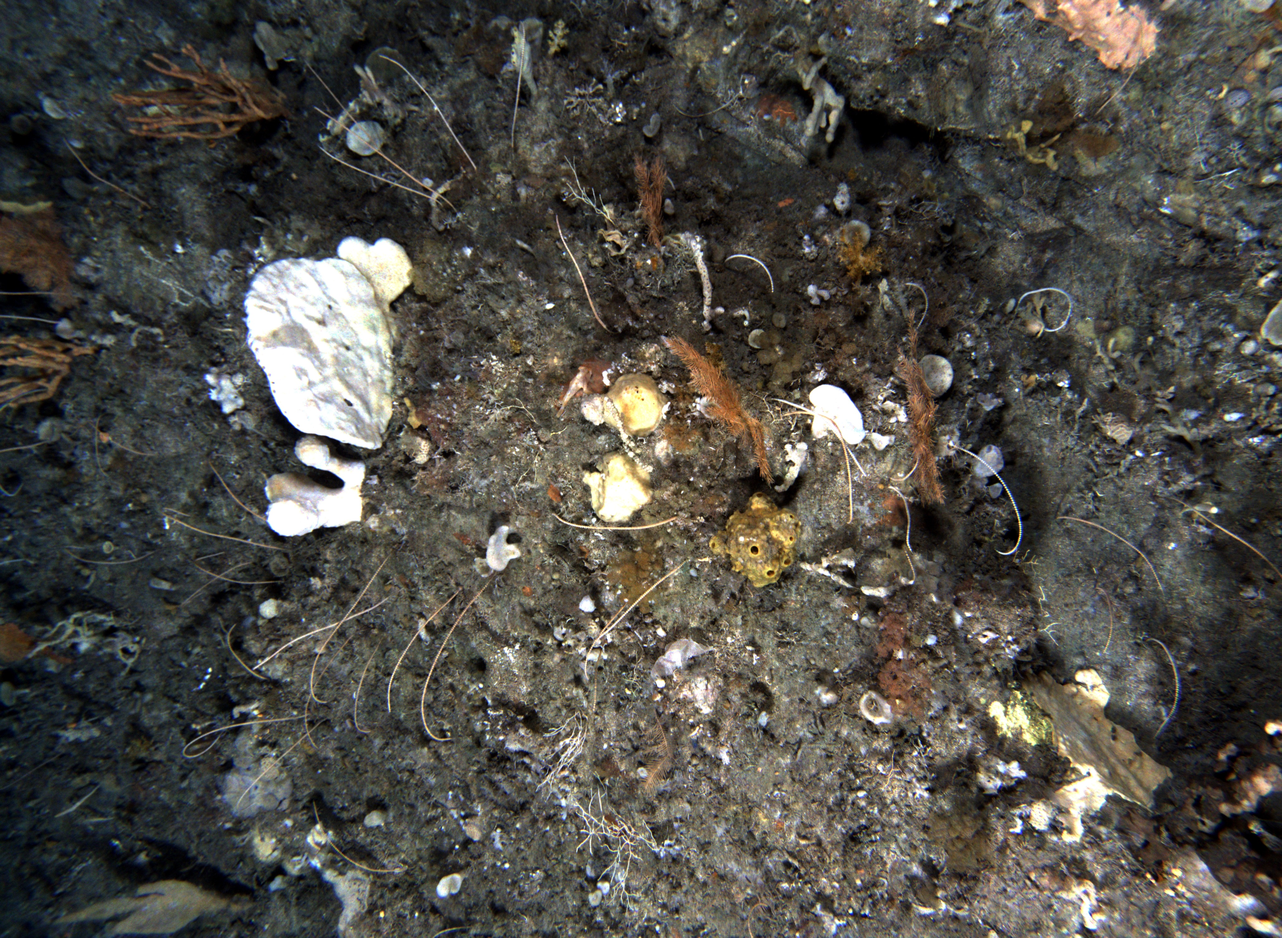Brachionichthyidae: (554, 365, 593, 419)
